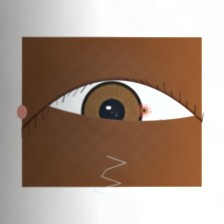foreign_body_visible: (136, 104, 153, 117)
